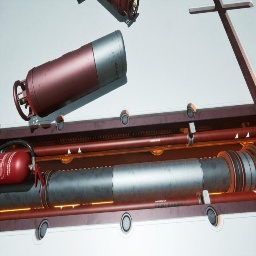FireExtinguisher ]: (0, 139, 44, 188)
NitrogenTank ,: (13, 30, 127, 121), (106, 0, 139, 20)
